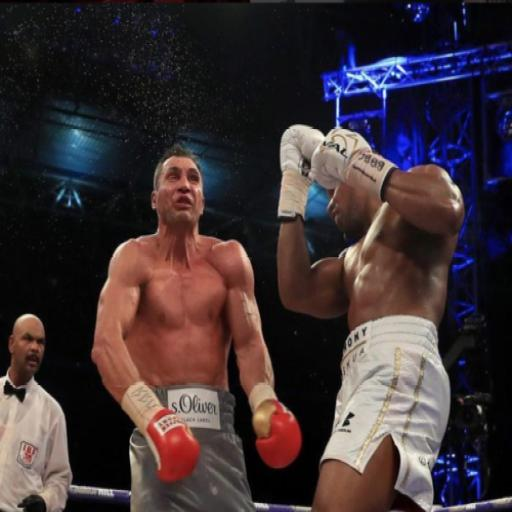boxing: (249, 67, 511, 512), (89, 144, 302, 510)
